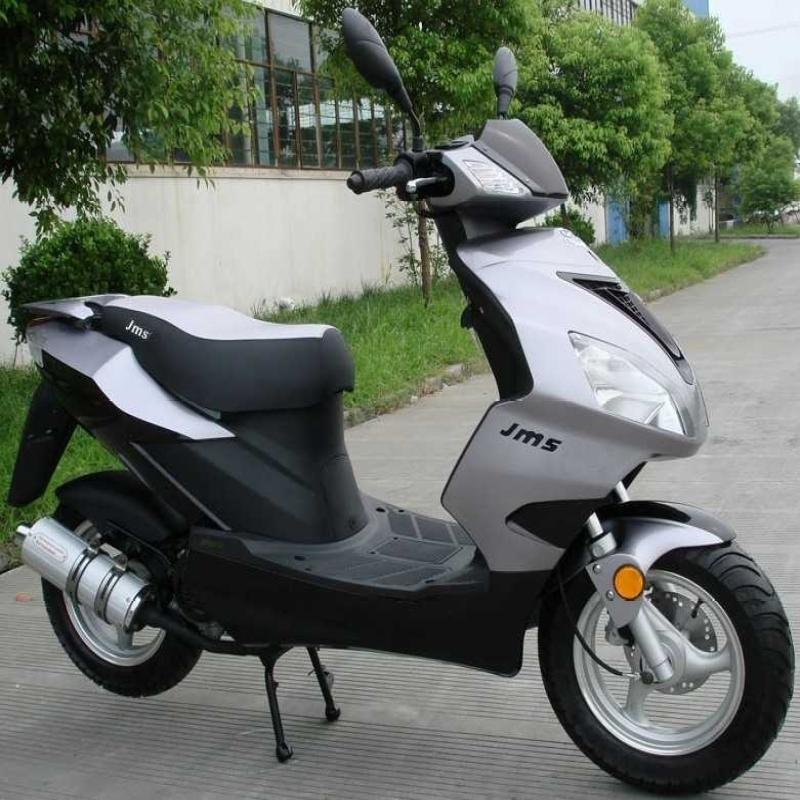bike: (18, 68, 795, 800)
